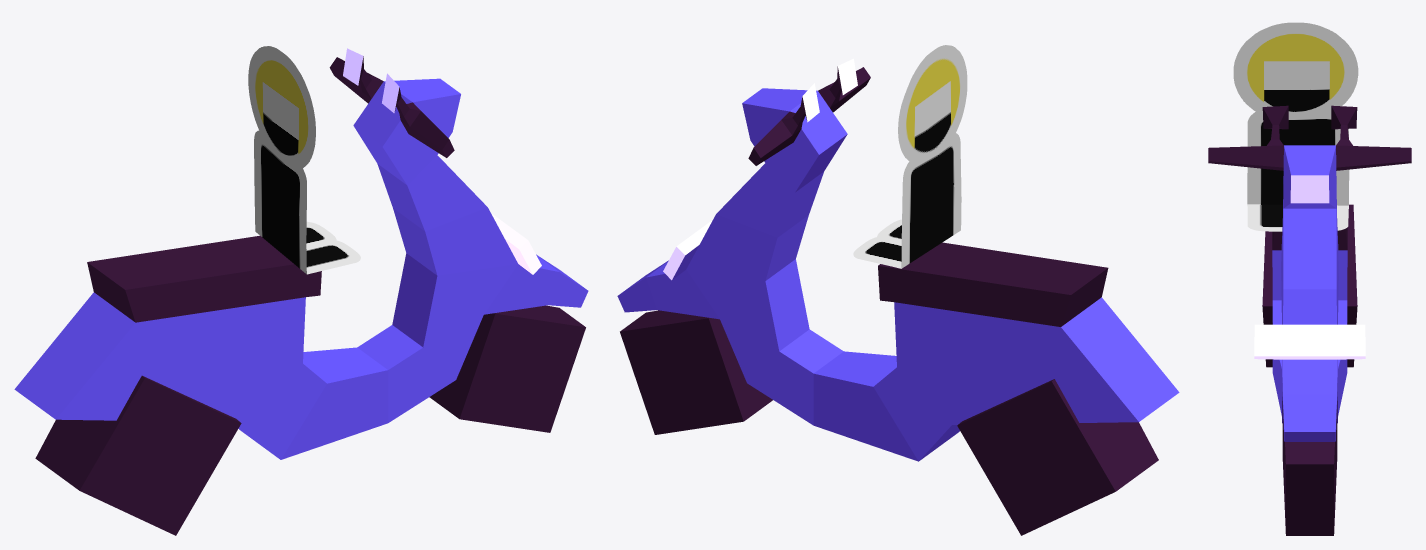
File: Motor_Spion_Plat_Helmet.fbx
3 renders of one model, left to right at view 1: azimuth 30°, elevation 25°; view 2: azimuth 150°, elevation 25°; view 3: azimuth 270°, elevation 25°, orthographic. The views are drawn at different scales.
Visible parts, largest first — view 1: Motor_Spion_Plat_Helmet, Sprite People.006; view 2: Motor_Spion_Plat_Helmet, Sprite People.006; view 3: Motor_Spion_Plat_Helmet, Sprite People.006.
Part boxes in pixels (x1,y1,x2,y2): Motor_Spion_Plat_Helmet: [14, 48, 588, 535]; Sprite People.006: [248, 46, 360, 274]; Motor_Spion_Plat_Helmet: [617, 58, 1179, 535]; Sprite People.006: [853, 45, 967, 268]; Motor_Spion_Plat_Helmet: [1208, 105, 1411, 535]; Sprite People.006: [1233, 22, 1358, 231].
Bounding box in the file's own units: 262 × 210 × 95.02.
Materials: 4 (1 with a texture image).
